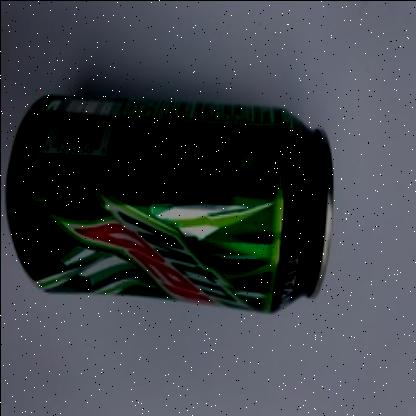Can: (4, 92, 334, 316)
